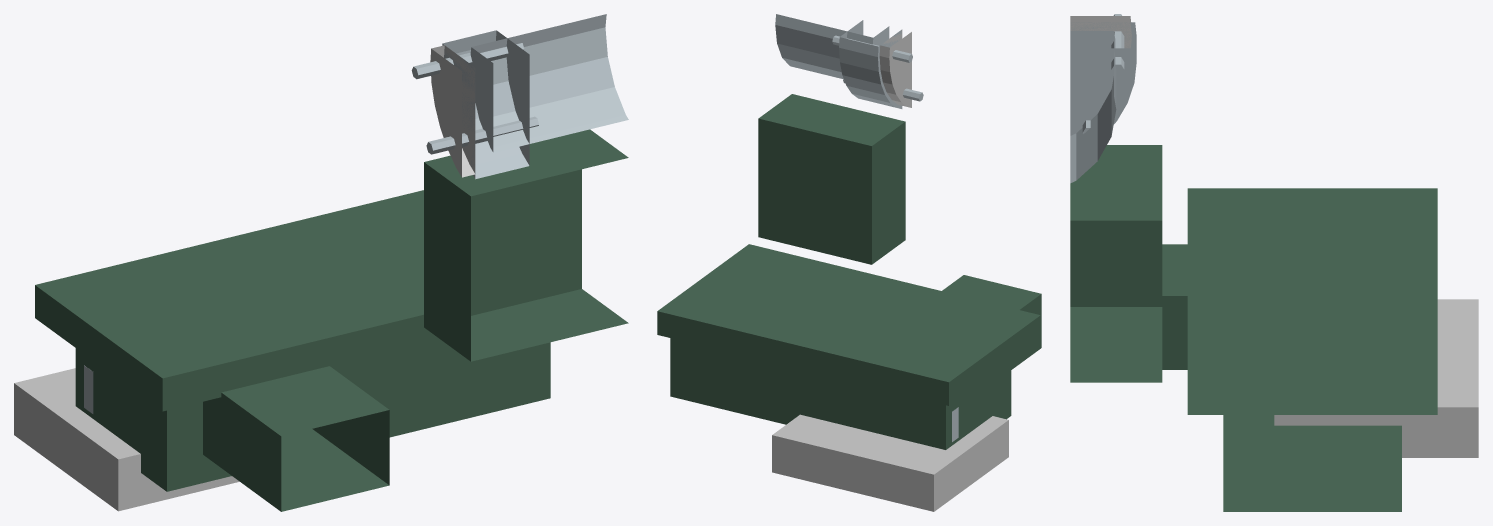
File: cell_0.obj
3 renders of one model, left to right at view 1: azimuth 30°, elevation 25°; view 2: azimuth 150°, elevation 25°; view 3: azimuth 270°, elevation 25°, orthographic. The views are drawn at different scales.
Bounding box in the file's own units: 0.9 × 0.97 × 0.8.
